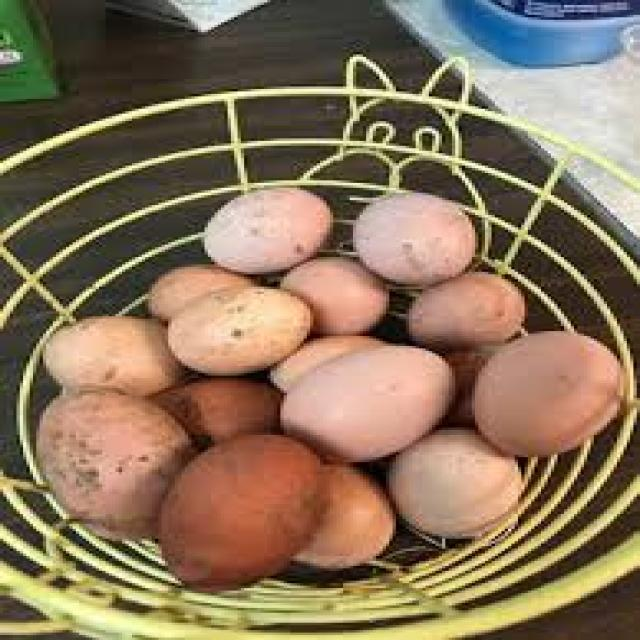Brown Egg: (133, 429, 345, 599), (264, 352, 483, 451), (471, 319, 640, 440), (386, 267, 582, 357), (351, 182, 507, 286), (203, 179, 360, 260)
